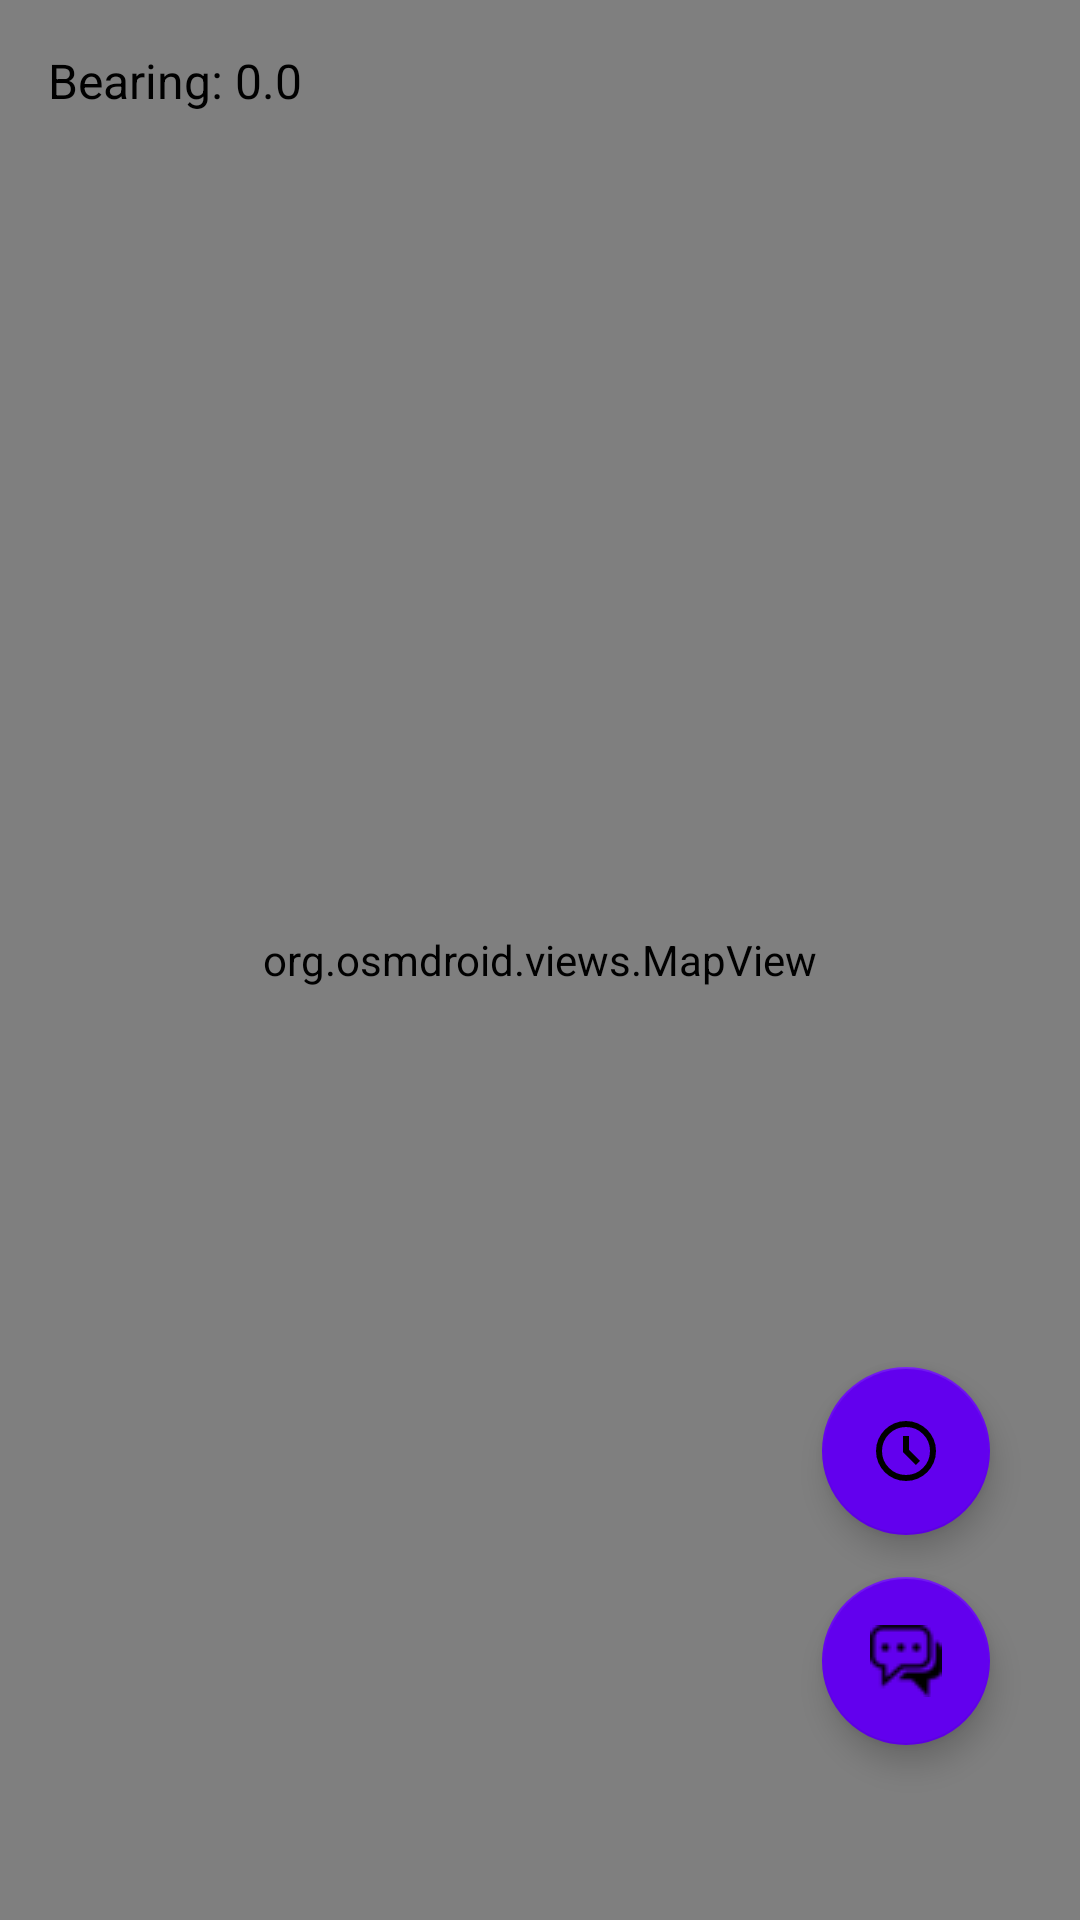

Named icons in this screenshot (1080px x 1920px) and their bounding boxes, box=[x1, y1, x2, y2]:
chat: box=[822, 1577, 990, 1745]
